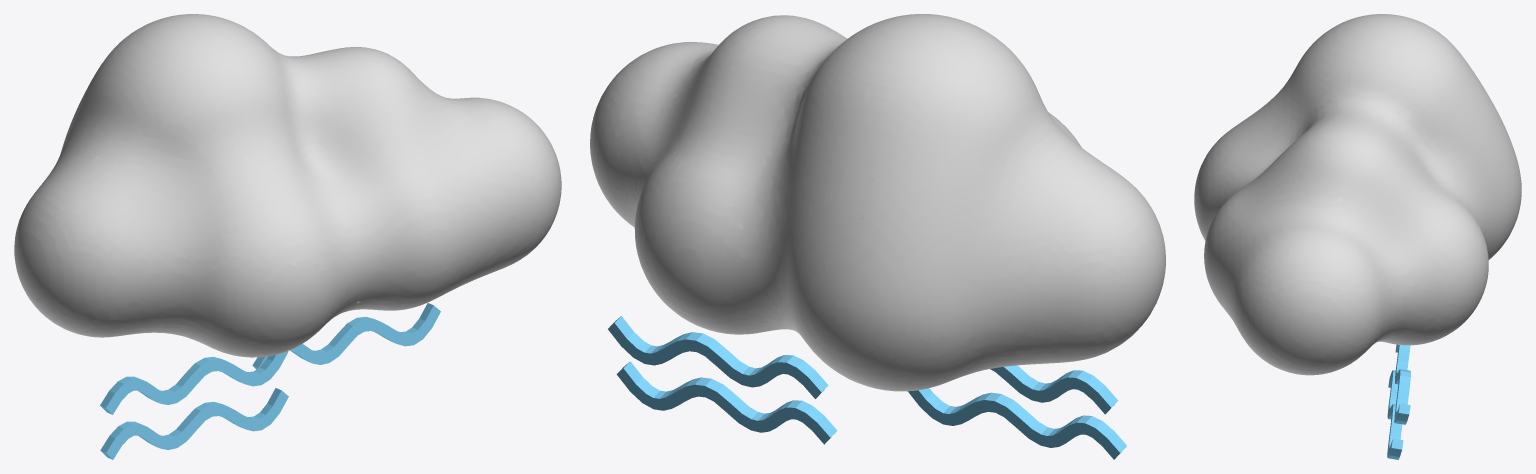
File: mist.glb
The picture shows the model from 3 angles, left to right: view 1: azimuth 30°, elevation 25°; view 2: azimuth 150°, elevation 25°; view 3: azimuth 270°, elevation 25°; orthographic projection. The views are drawn at different scales.
Parts seen in each view (by area): view 1: BézierCurve.001; view 2: BézierCurve.001; view 3: BézierCurve.001.
Boxes of the visible parts, x1,y1,x2,y2 form: BézierCurve.001: (14, 14, 561, 459); BézierCurve.001: (590, 14, 1165, 459); BézierCurve.001: (1194, 14, 1521, 459).
Size of the model in its own units: 5.66 by 4.11 by 3.61.
